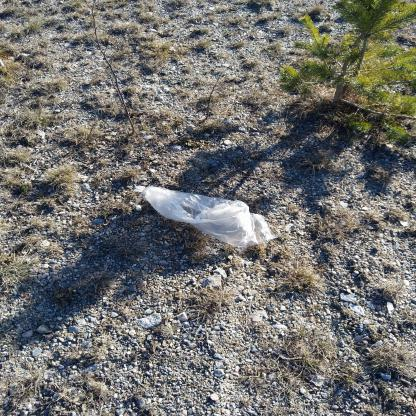plastik: (143, 187, 279, 249)
